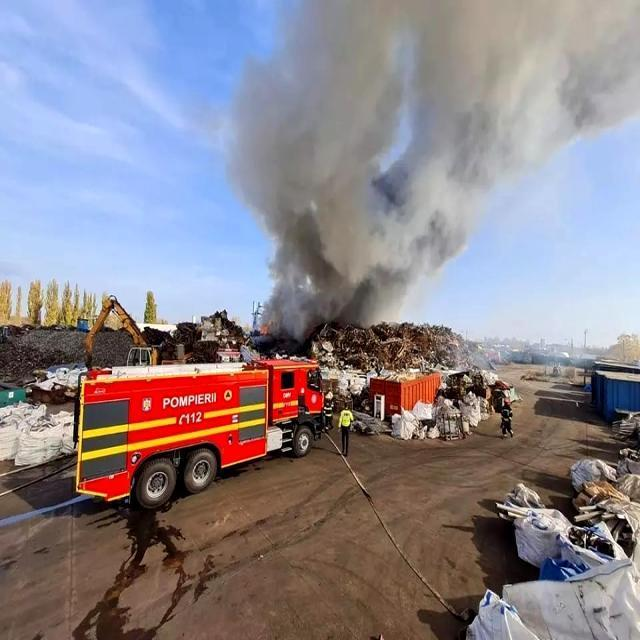Smoke: (208, 0, 640, 322)
